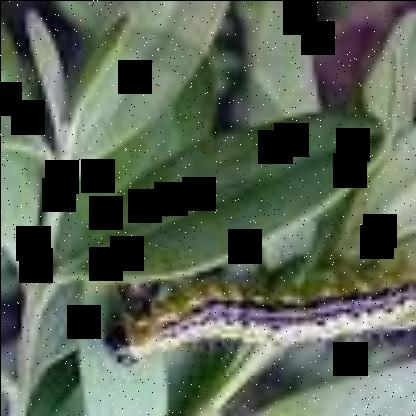oruga: (88, 238, 416, 386)
